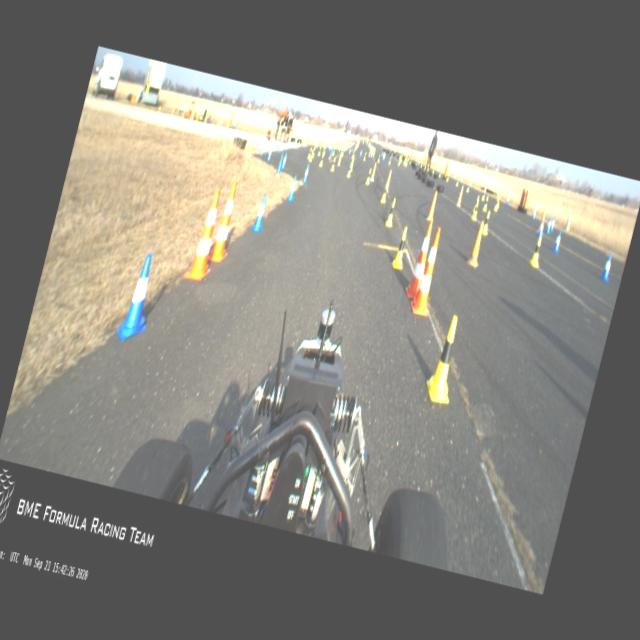blue_cone: (113, 250, 164, 348), (250, 192, 270, 232), (600, 252, 614, 282), (286, 174, 299, 202), (551, 229, 563, 253), (301, 162, 310, 183), (536, 220, 546, 238), (544, 216, 553, 235), (280, 151, 288, 169), (530, 206, 538, 220), (266, 146, 272, 162), (549, 216, 555, 232), (504, 194, 510, 206), (259, 144, 265, 156), (283, 138, 288, 152), (289, 138, 294, 150), (276, 140, 281, 152), (231, 118, 236, 128), (347, 146, 351, 156), (266, 144, 270, 154), (369, 150, 373, 160), (296, 139, 300, 148), (302, 139, 306, 148), (452, 172, 457, 179), (382, 152, 386, 160), (337, 146, 341, 154), (434, 166, 438, 173), (359, 150, 362, 158), (344, 142, 347, 150), (441, 168, 444, 176), (390, 151, 393, 157), (398, 152, 401, 158), (381, 151, 384, 157), (406, 156, 409, 162), (460, 176, 462, 183), (418, 160, 420, 166), (328, 145, 330, 151)
large_orange_cone: (182, 184, 230, 286), (408, 225, 449, 318), (207, 178, 246, 266), (403, 219, 436, 300)
unknown_cone: (464, 219, 488, 268), (425, 190, 440, 222), (536, 209, 548, 234), (455, 183, 466, 207), (384, 168, 394, 192), (564, 212, 574, 230), (276, 152, 284, 174), (370, 162, 378, 181), (336, 150, 344, 166), (328, 145, 333, 158), (351, 144, 354, 151)
yellow_cone: (422, 312, 469, 406), (390, 224, 412, 270), (528, 234, 546, 268), (384, 195, 399, 227), (480, 211, 492, 236), (379, 181, 390, 203), (471, 200, 481, 220), (472, 195, 481, 211), (364, 168, 372, 185), (346, 161, 354, 178), (482, 194, 489, 212), (329, 157, 337, 172), (480, 186, 488, 201), (493, 196, 500, 210), (349, 155, 355, 171), (308, 149, 314, 162), (306, 146, 312, 159), (318, 154, 324, 166), (454, 175, 460, 187), (371, 146, 376, 158), (315, 137, 320, 148), (466, 180, 470, 193), (317, 146, 322, 156), (376, 154, 381, 163), (396, 157, 401, 166), (362, 152, 367, 160), (446, 172, 450, 182), (404, 156, 408, 166), (368, 147, 372, 157), (322, 144, 326, 154), (226, 116, 230, 126), (332, 146, 336, 155), (388, 156, 392, 165), (438, 168, 442, 177), (414, 158, 418, 167), (399, 154, 403, 163), (350, 150, 354, 158), (431, 166, 435, 174), (402, 156, 406, 164), (354, 141, 358, 148), (408, 157, 412, 164), (426, 164, 429, 170), (354, 142, 356, 150), (420, 162, 422, 168), (424, 162, 426, 168)
